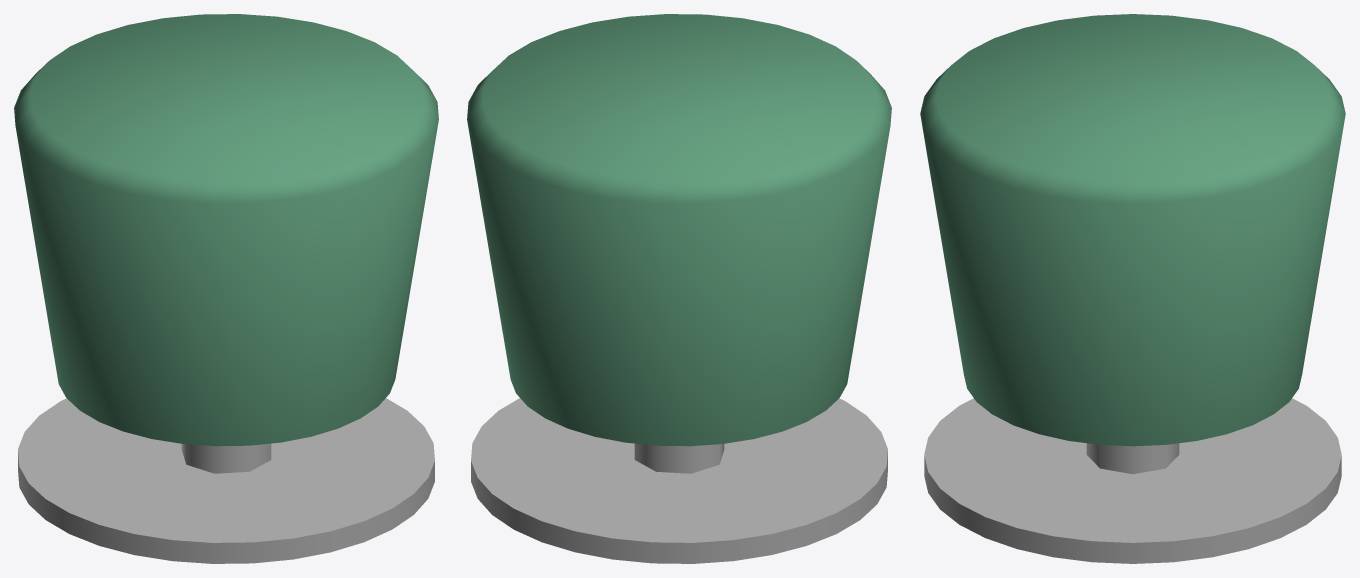
The model's file is Pouf.fbx.
The picture shows the model from 3 angles, left to right: view 1: azimuth 30°, elevation 25°; view 2: azimuth 150°, elevation 25°; view 3: azimuth 270°, elevation 25°; orthographic projection.
Parts seen in each view (by area): view 1: Pouf; view 2: Pouf; view 3: Pouf.
Boxes of the visible parts, <box> form: Pouf: <box>14,14,438,563</box>; Pouf: <box>467,14,891,563</box>; Pouf: <box>920,14,1345,563</box>.
Bounding box in the file's own units: 0.4585 × 0.45 × 0.4585.
